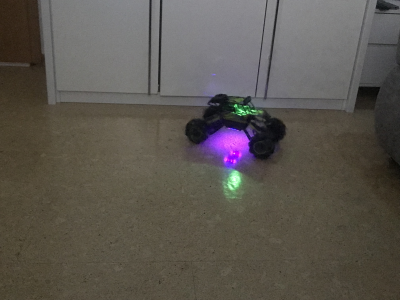remote control car: (184, 89, 289, 161)
